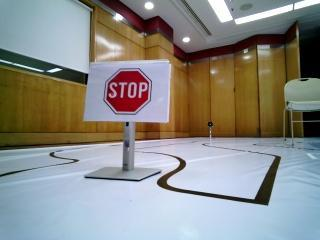stop: (98, 63, 167, 116)
